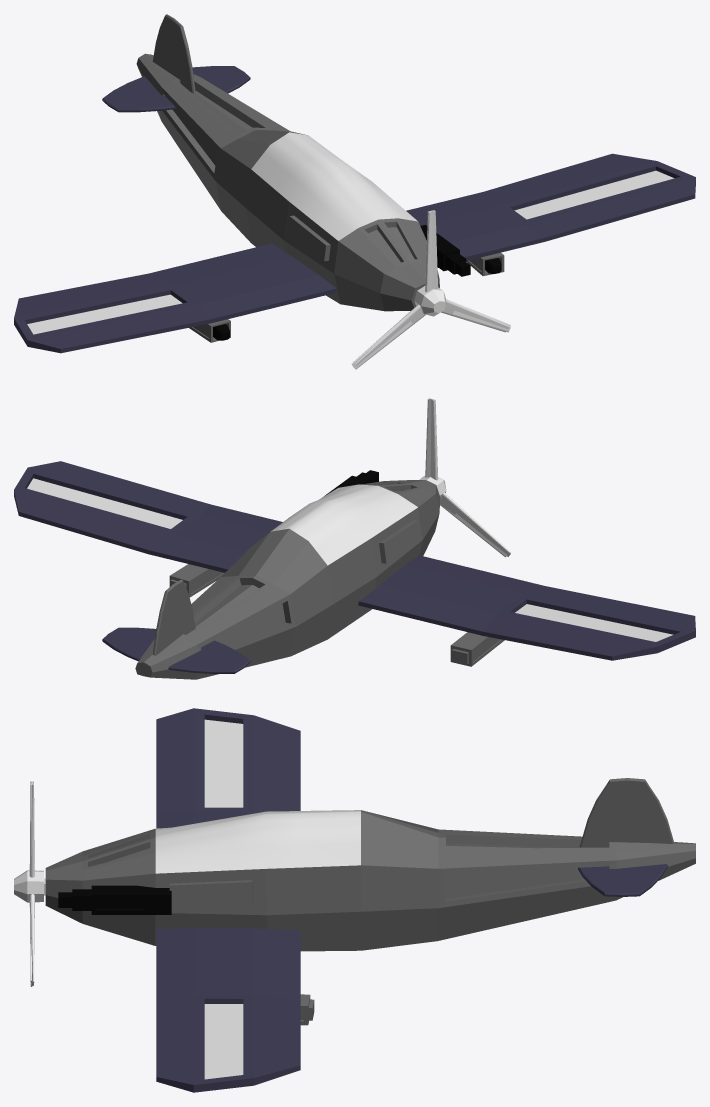
The picture shows the model from 3 angles, top to bottom: view 1: azimuth 30°, elevation 25°; view 2: azimuth 150°, elevation 25°; view 3: azimuth 270°, elevation 25°; orthographic projection. The views are drawn at different scales.
Parts seen in each view (by area): view 1: TopTail, Propellor; view 2: TopTail, Propellor; view 3: TopTail, Propellor.
Part boxes in pixels (x1,y1,x2,y2): TopTail: [14, 14, 695, 353]; Propellor: [351, 210, 510, 369]; TopTail: [14, 461, 695, 679]; Propellor: [419, 398, 510, 557]; TopTail: [45, 708, 695, 1092]; Propellor: [14, 781, 45, 986].
Bounding box in the file's own units: 1237 × 255 × 946.
